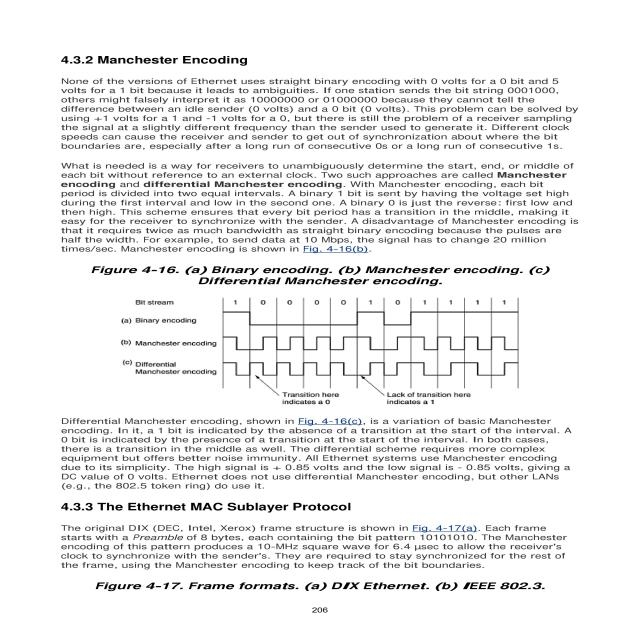diagram: (80, 260, 581, 412)
